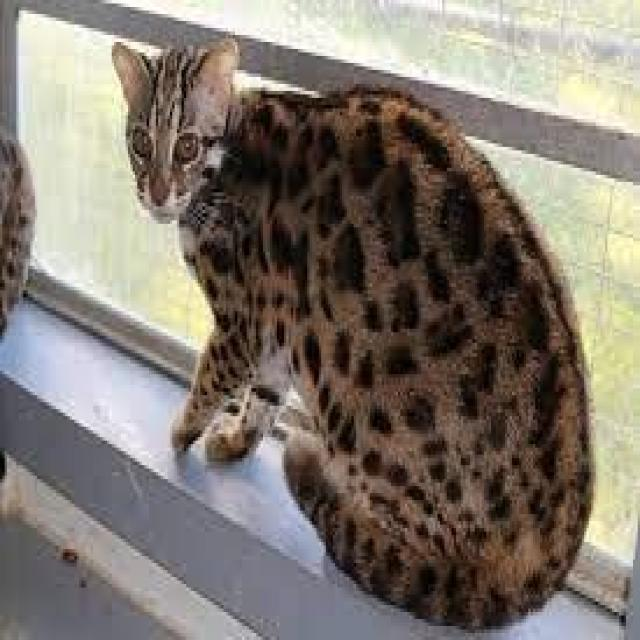leopard: (120, 20, 521, 482)
